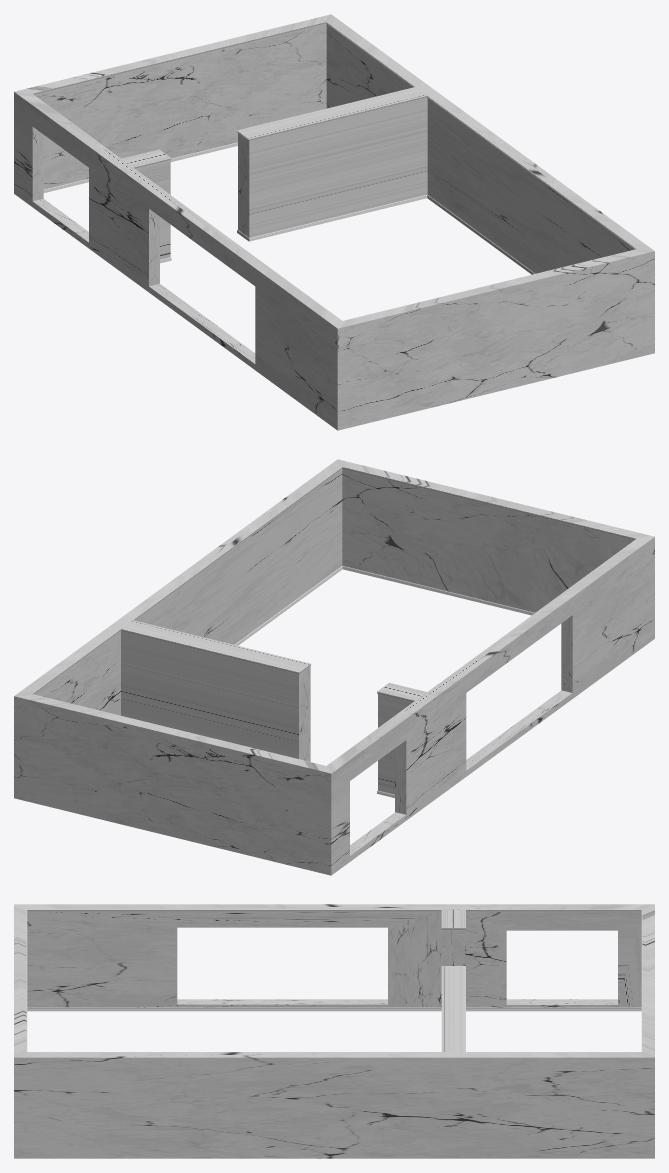
Rendered from Wall_White.fbx.
3 views of the same model, one above another, from view 1: azimuth 30°, elevation 25°; view 2: azimuth 150°, elevation 25°; view 3: azimuth 270°, elevation 25° (orthographic).
Parts seen in each view (by area): view 1: Wall, Top_skirting, Skirtring_board; view 2: Wall, Top_skirting, Skirtring_board; view 3: Wall, Top_skirting, Skirtring_board.
Part boxes in pixels (x1=…): Wall: x1=14, y1=14, x2=654, y2=430; Top_skirting: x1=32, y1=21, x2=636, y2=320; Skirtring_board: x1=43, y1=142, x2=535, y2=274; Wall: x1=14, y1=459, x2=654, y2=875; Top_skirting: x1=32, y1=466, x2=636, y2=765; Skirtring_board: x1=234, y1=566, x2=534, y2=797; Wall: x1=14, y1=904, x2=654, y2=1158; Top_skirting: x1=26, y1=909, x2=642, y2=1052; Skirtring_board: x1=27, y1=1007, x2=641, y2=1011.
Bounding box in the file's own units: 19.27 × 5.93 × 34.04.
